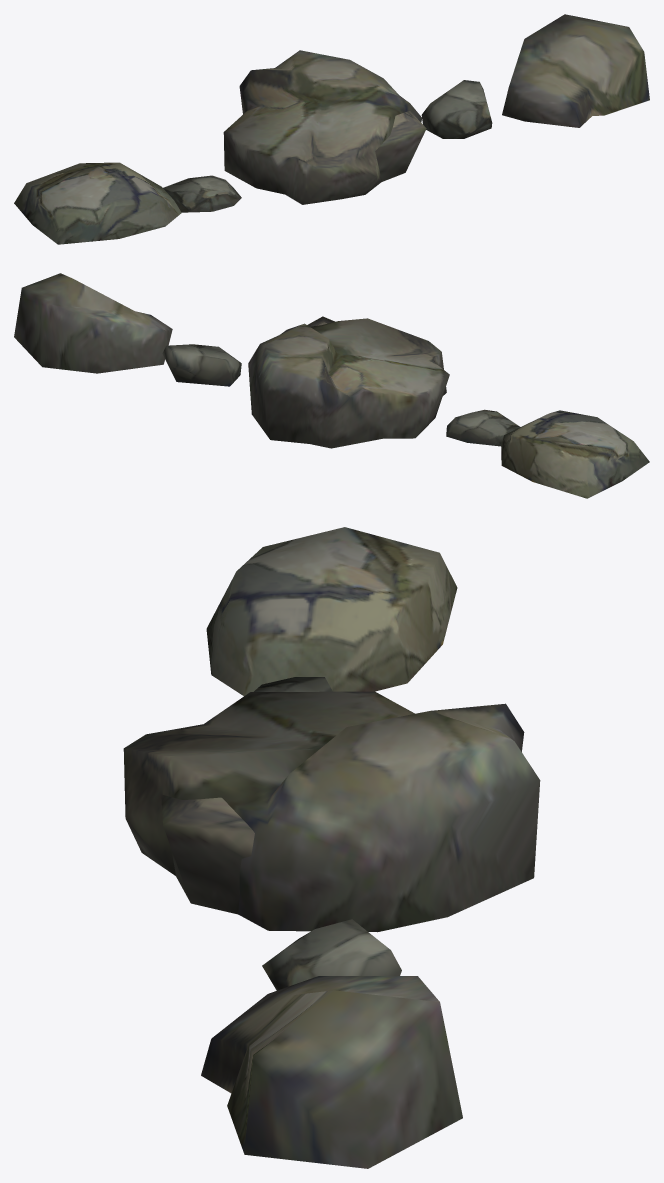
File: 2_YiZhan_ZaWu_ShiKuai_05.FBX
The picture shows the model from 3 angles, top to bottom: view 1: azimuth 30°, elevation 25°; view 2: azimuth 150°, elevation 25°; view 3: azimuth 270°, elevation 25°; orthographic projection. The views are drawn at different scales.
Parts seen in each view (by area): view 1: 2_YiZhan_ZaWu_ShiKuai_06, 2_YiZhan_ZaWu_ShiKuai_08, 2_YiZhan_ZaWu_ShiKuai_05, 2_YiZhan_ZaWu_ShiKuai_07; view 2: 2_YiZhan_ZaWu_ShiKuai_06, 2_YiZhan_ZaWu_ShiKuai_08, 2_YiZhan_ZaWu_ShiKuai_05, 2_YiZhan_ZaWu_ShiKuai_07; view 3: 2_YiZhan_ZaWu_ShiKuai_06, 2_YiZhan_ZaWu_ShiKuai_08, 2_YiZhan_ZaWu_ShiKuai_05, 2_YiZhan_ZaWu_ShiKuai_07.
Boxes of the visible parts, x1=… form: 2_YiZhan_ZaWu_ShiKuai_06: x1=223, y1=50, x2=426, y2=204; 2_YiZhan_ZaWu_ShiKuai_08: x1=502, y1=14, x2=649, y2=127; 2_YiZhan_ZaWu_ShiKuai_05: x1=14, y1=162, x2=241, y2=244; 2_YiZhan_ZaWu_ShiKuai_07: x1=421, y1=80, x2=492, y2=138; 2_YiZhan_ZaWu_ShiKuai_06: x1=248, y1=316, x2=449, y2=448; 2_YiZhan_ZaWu_ShiKuai_08: x1=14, y1=273, x2=172, y2=373; 2_YiZhan_ZaWu_ShiKuai_05: x1=446, y1=409, x2=649, y2=498; 2_YiZhan_ZaWu_ShiKuai_07: x1=162, y1=344, x2=241, y2=386; 2_YiZhan_ZaWu_ShiKuai_06: x1=123, y1=691, x2=540, y2=932; 2_YiZhan_ZaWu_ShiKuai_08: x1=201, y1=976, x2=462, y2=1168; 2_YiZhan_ZaWu_ShiKuai_05: x1=206, y1=527, x2=457, y2=695; 2_YiZhan_ZaWu_ShiKuai_07: x1=262, y1=919, x2=401, y2=990.
Size of the model in its own units: 684 by 77.62 by 204.
4 materials, 4 textured.
